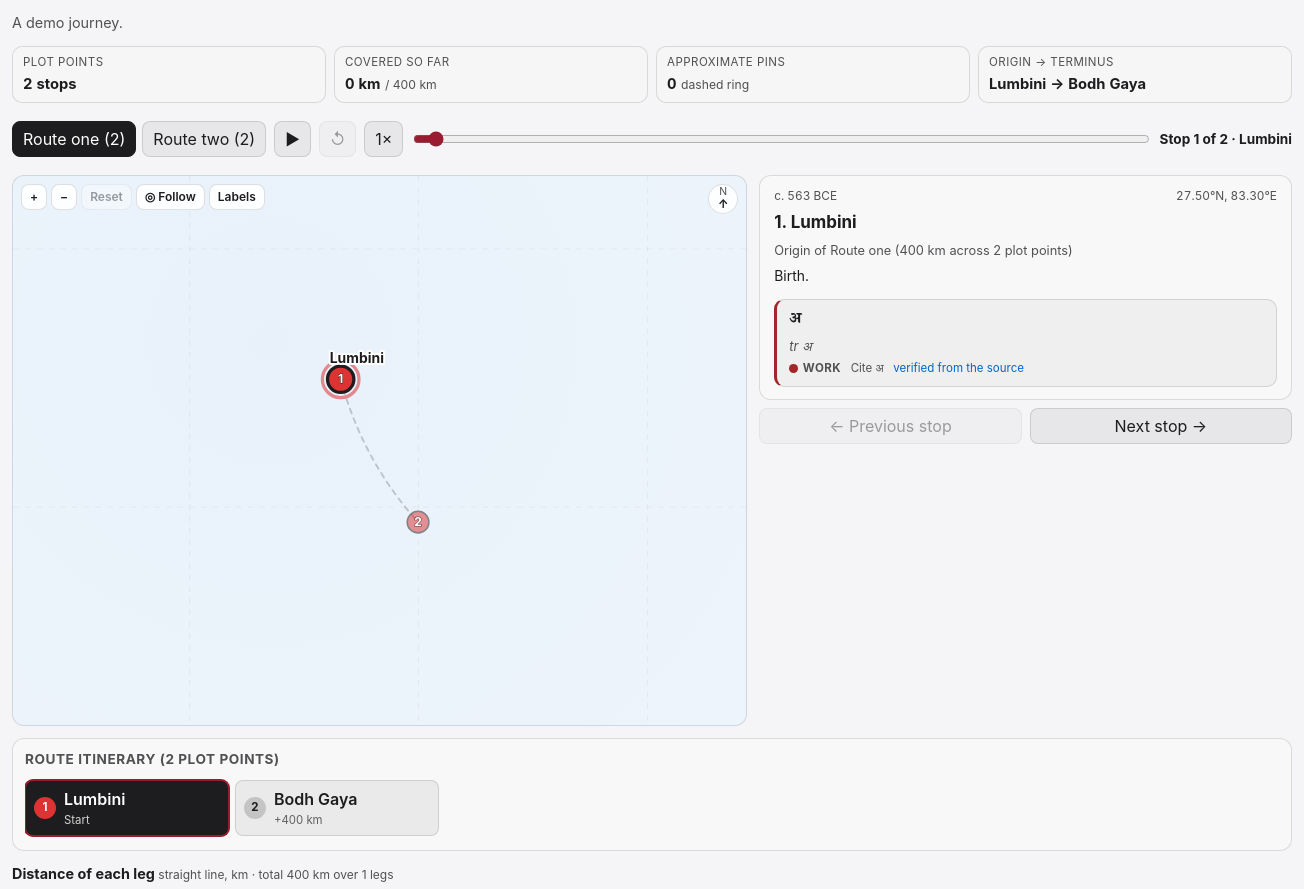
Scenario: Journey map › switches routes and keeps the slider in range
Click the button "Route two (2)".
click(204, 139)  # box [142,121,266,157]
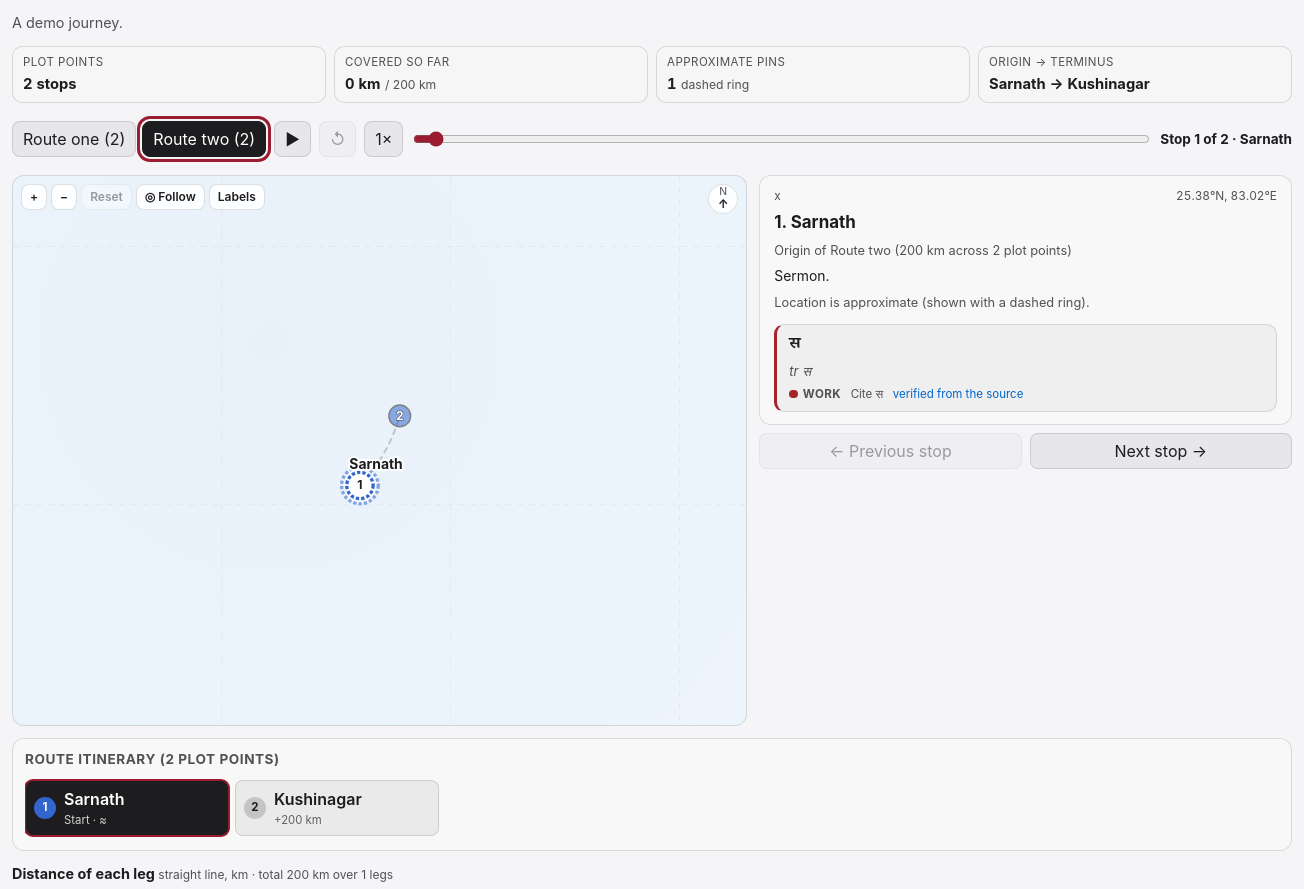
Check: the element with class "is-approx" is shown, box [342,456,403,504]
Check: the heading "1. Sarnath" is shown, box [774,212,856,232]
